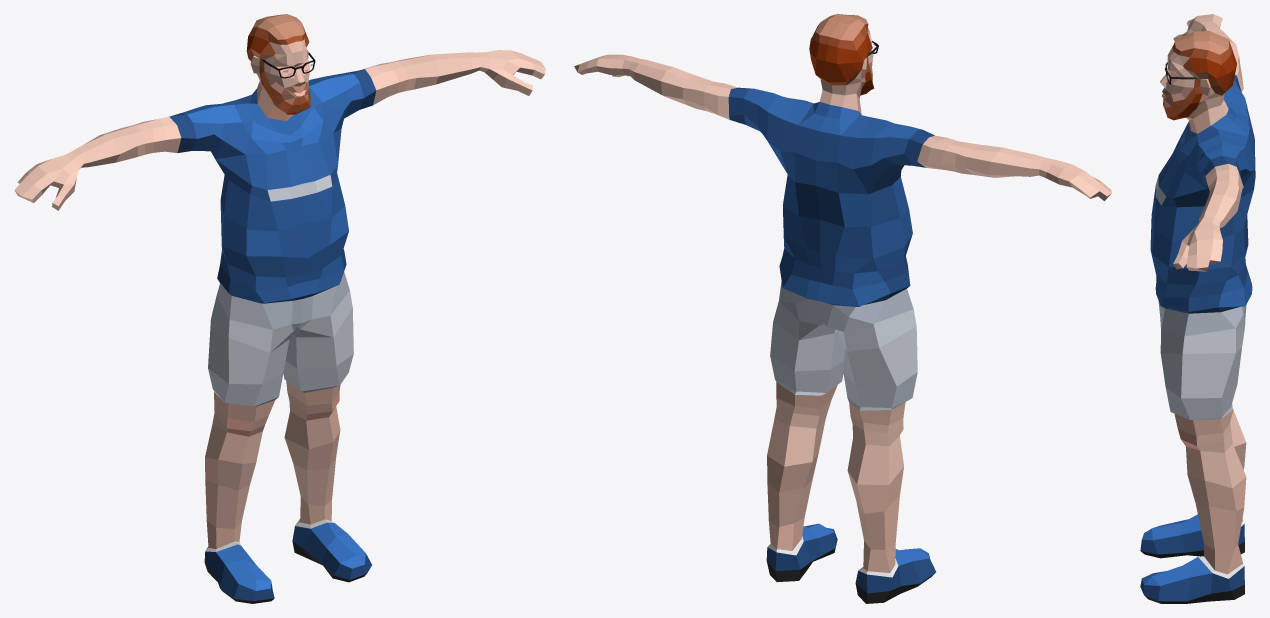
Rendered from casual_Male_K-model.fbx.
3 views of the same model, side by side, from view 1: azimuth 30°, elevation 25°; view 2: azimuth 150°, elevation 25°; view 3: azimuth 270°, elevation 25° (orthographic). The views are drawn at different scales.
Visible parts, largest first — view 1: casual_Male_K; view 2: casual_Male_K; view 3: casual_Male_K.
Part boxes in pixels (x1=…): casual_Male_K: x1=14, y1=14, x2=545, y2=603; casual_Male_K: x1=574, y1=14, x2=1111, y2=603; casual_Male_K: x1=1140, y1=14, x2=1255, y2=603.
Size of the model in its own units: 168 by 168 by 32.68.
Materials: 1 (1 with a texture image).
